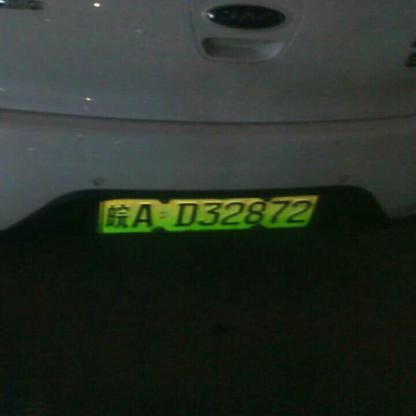lp: (101, 195, 317, 231)
